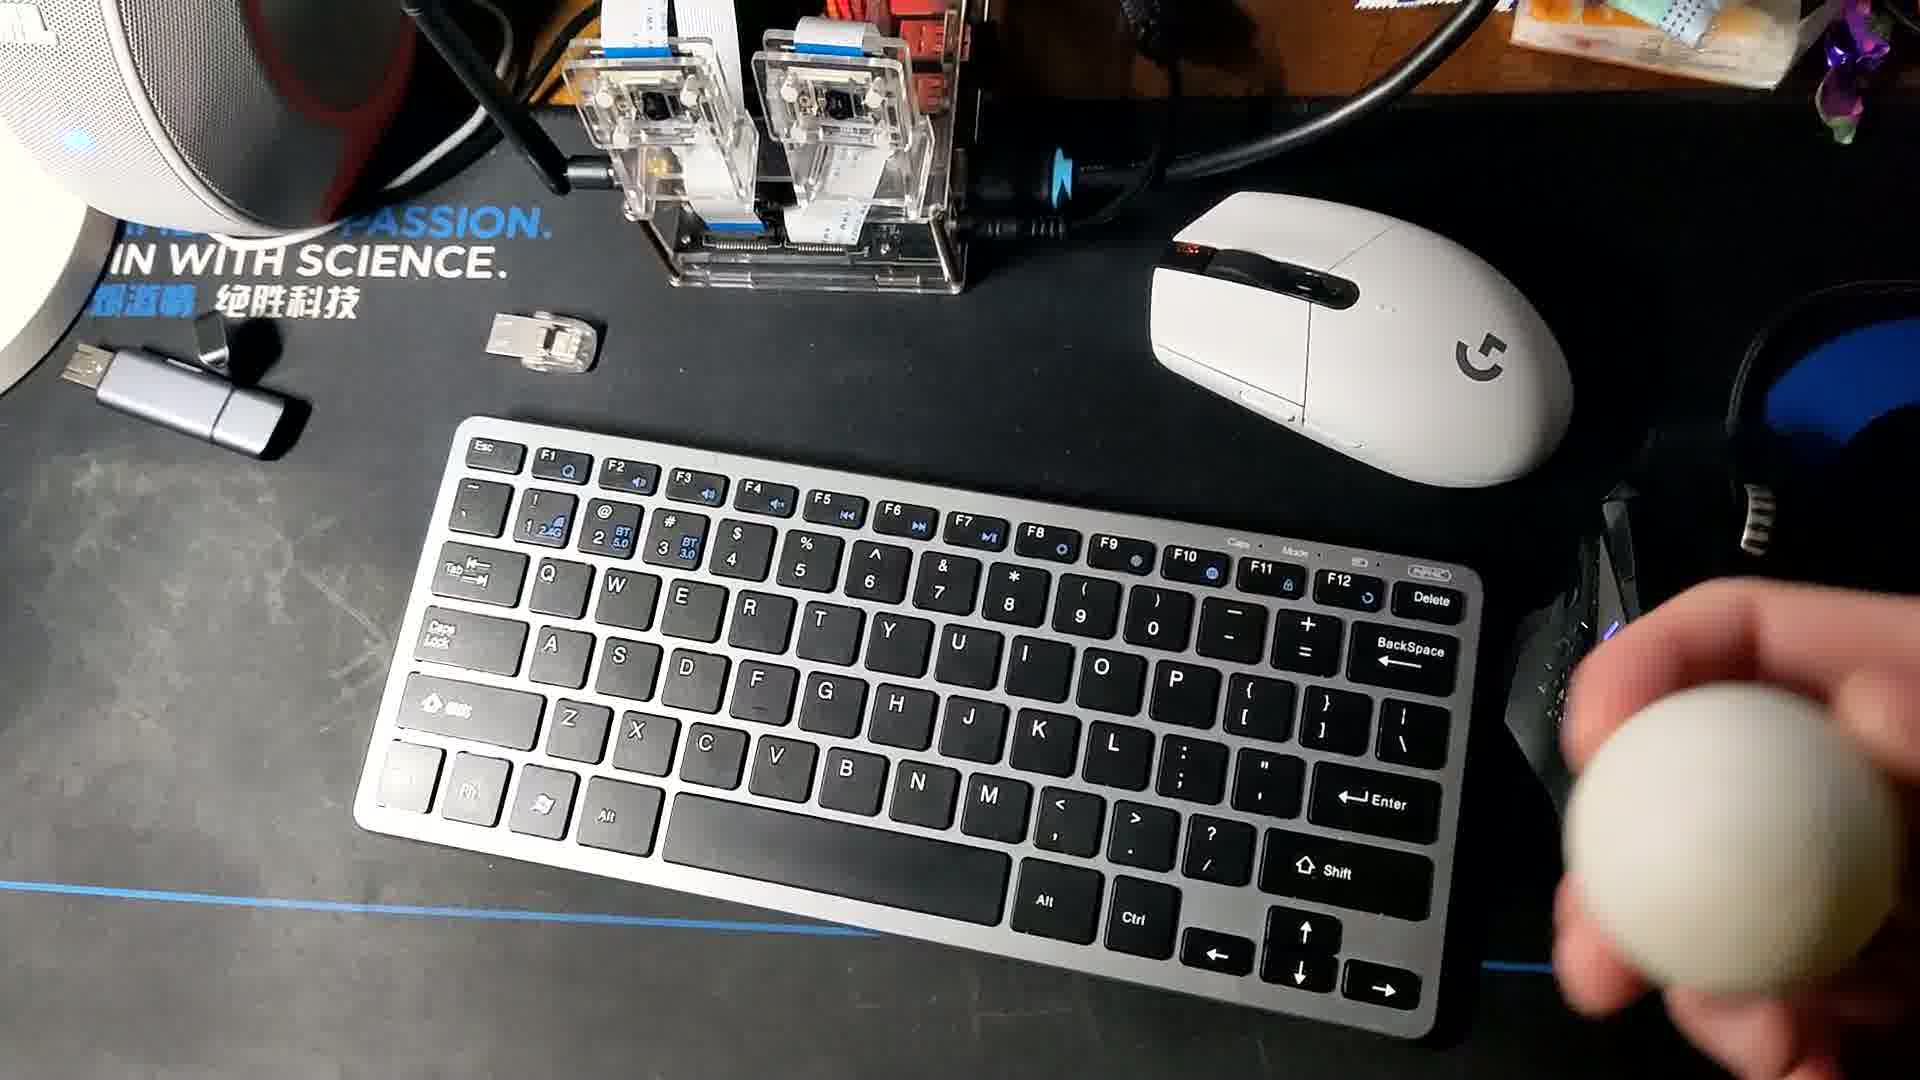Ball: (1540, 676, 1905, 986)
